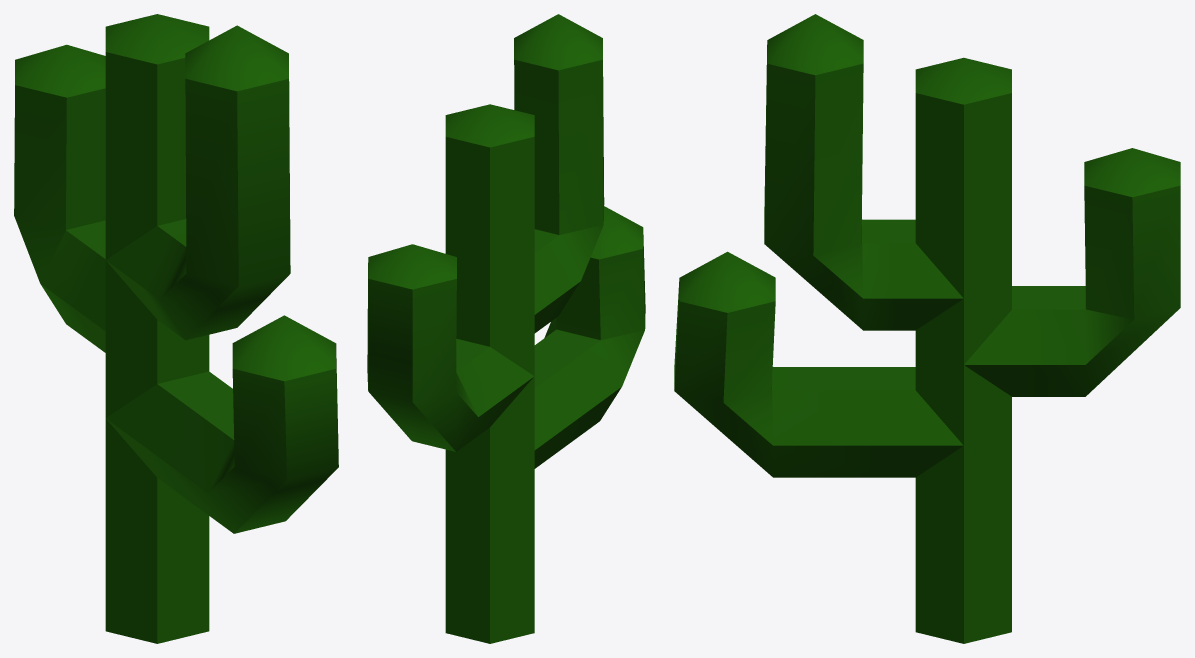
The model's file is cactus-02.fbx.
3 renders of one model, left to right at view 1: azimuth 30°, elevation 25°; view 2: azimuth 150°, elevation 25°; view 3: azimuth 270°, elevation 25°, orthographic. The views are drawn at different scales.
Parts seen in each view (by area): view 1: pCylinder39, pCylinder40, pCylinder42, pCylinder41; view 2: pCylinder39, pCylinder41, pCylinder40, pCylinder42; view 3: pCylinder39, pCylinder42, pCylinder40, pCylinder41.
Part boxes in pixels (x1,y1,x2,y2): pCylinder39: (105, 14, 209, 643); pCylinder40: (106, 25, 290, 340); pCylinder42: (106, 315, 338, 533); pCylinder41: (14, 44, 105, 352); pCylinder39: (445, 104, 534, 643); pCylinder41: (367, 244, 533, 451); pCylinder40: (514, 14, 604, 333); pCylinder42: (534, 206, 645, 468); pCylinder39: (915, 57, 1011, 643); pCylinder42: (674, 251, 963, 477); pCylinder40: (764, 14, 963, 330); pCylinder41: (965, 148, 1180, 396).
Bounding box in the file's own units: 0.4462 × 2.68 × 2.03.
